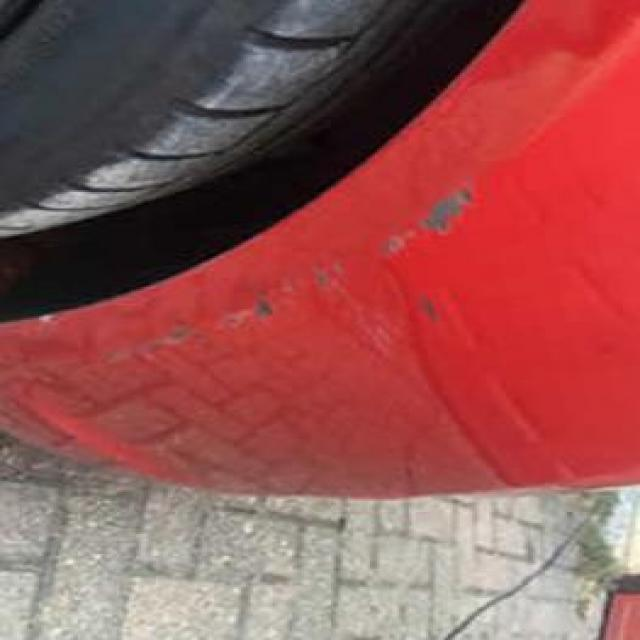scratch: (67, 179, 515, 404)
